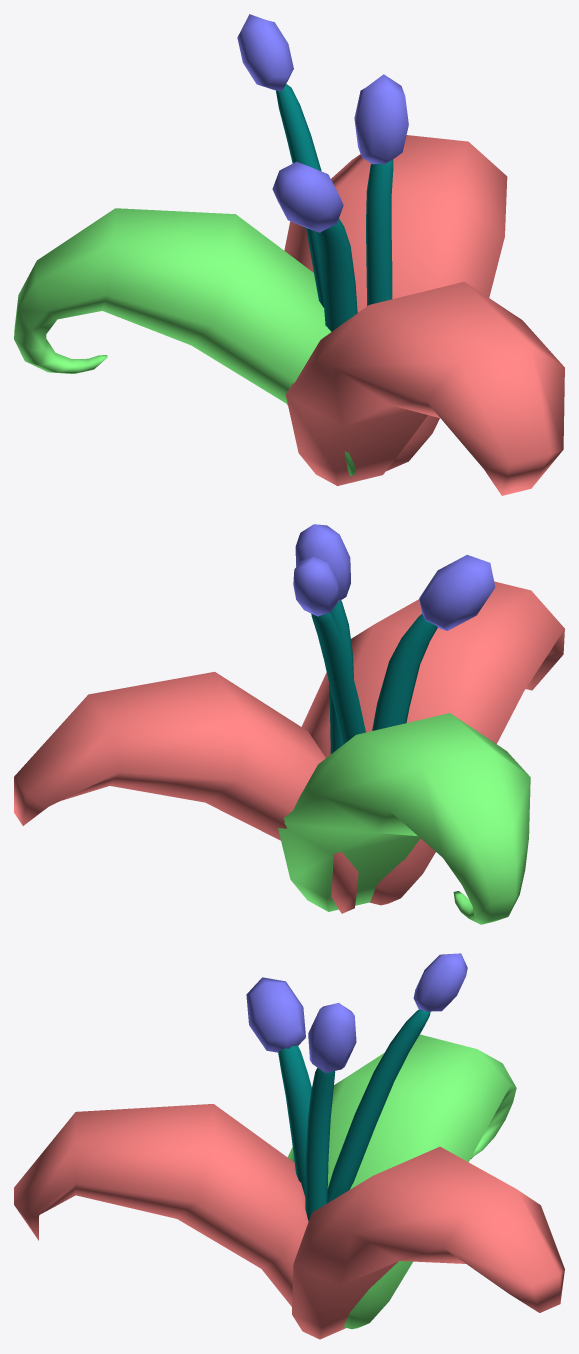
Rendered from Grass03.0.fbx.
The picture shows the model from 3 angles, top to bottom: view 1: azimuth 30°, elevation 25°; view 2: azimuth 150°, elevation 25°; view 3: azimuth 270°, elevation 25°; orthographic projection. The views are drawn at different scales.
Parts seen in each view (by area): view 1: Low_Grass030; view 2: Low_Grass030; view 3: Low_Grass030.
Boxes of the visible parts, <box> form: Low_Grass030: <box>14,14,564,495</box>; Low_Grass030: <box>14,524,564,924</box>; Low_Grass030: <box>14,953,564,1339</box>.
Size of the model in its own units: 766 by 612 by 848.
